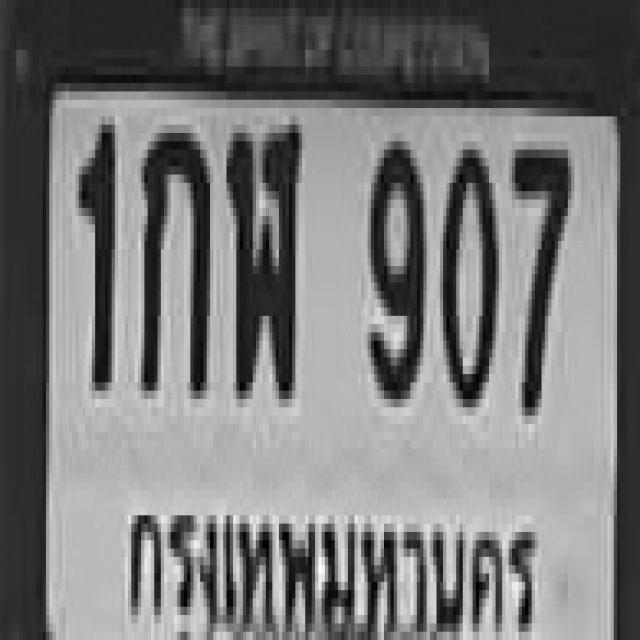0: (440, 137, 496, 395)
1: (76, 112, 112, 378)
10GorGai: (138, 124, 207, 390)
51LorChula: (226, 112, 298, 387)
7: (509, 137, 568, 403)
9: (368, 133, 420, 391)
Bangkok: (122, 489, 540, 635)
